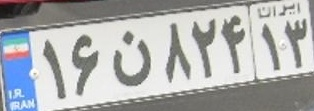character: (103, 26, 159, 93), (66, 29, 103, 100), (34, 31, 69, 106), (157, 18, 193, 88), (216, 10, 249, 78), (191, 15, 217, 84), (257, 18, 285, 76), (283, 16, 311, 74)
